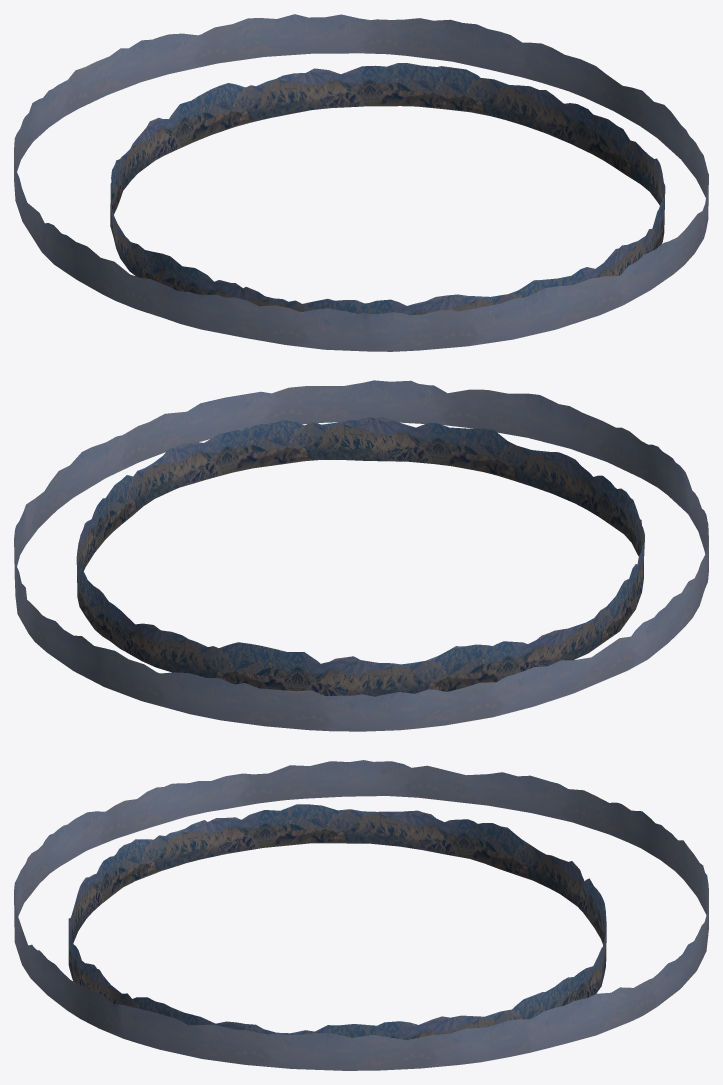
Rendered from Re_Invent_track_terrain_wall.dae.
3 renders of one model, top to bottom at view 1: azimuth 30°, elevation 25°; view 2: azimuth 150°, elevation 25°; view 3: azimuth 270°, elevation 25°, orthographic. The views are drawn at different scales.
Parts seen in each view (by area): view 1: terrain_wall_02, terrain_wall_01; view 2: terrain_wall_02, terrain_wall_01; view 3: terrain_wall_02, terrain_wall_01.
Boxes of the visible parts, x1,y1,x2,y2 form: terrain_wall_02: (14,14,708,351); terrain_wall_01: (110,63,665,315); terrain_wall_02: (14,380,708,731); terrain_wall_01: (76,417,644,696); terrain_wall_02: (14,760,708,1070); terrain_wall_01: (68,804,606,1039).
Size of the model in its own units: 313 by 334 by 31.37.
1 material, 1 textured.
